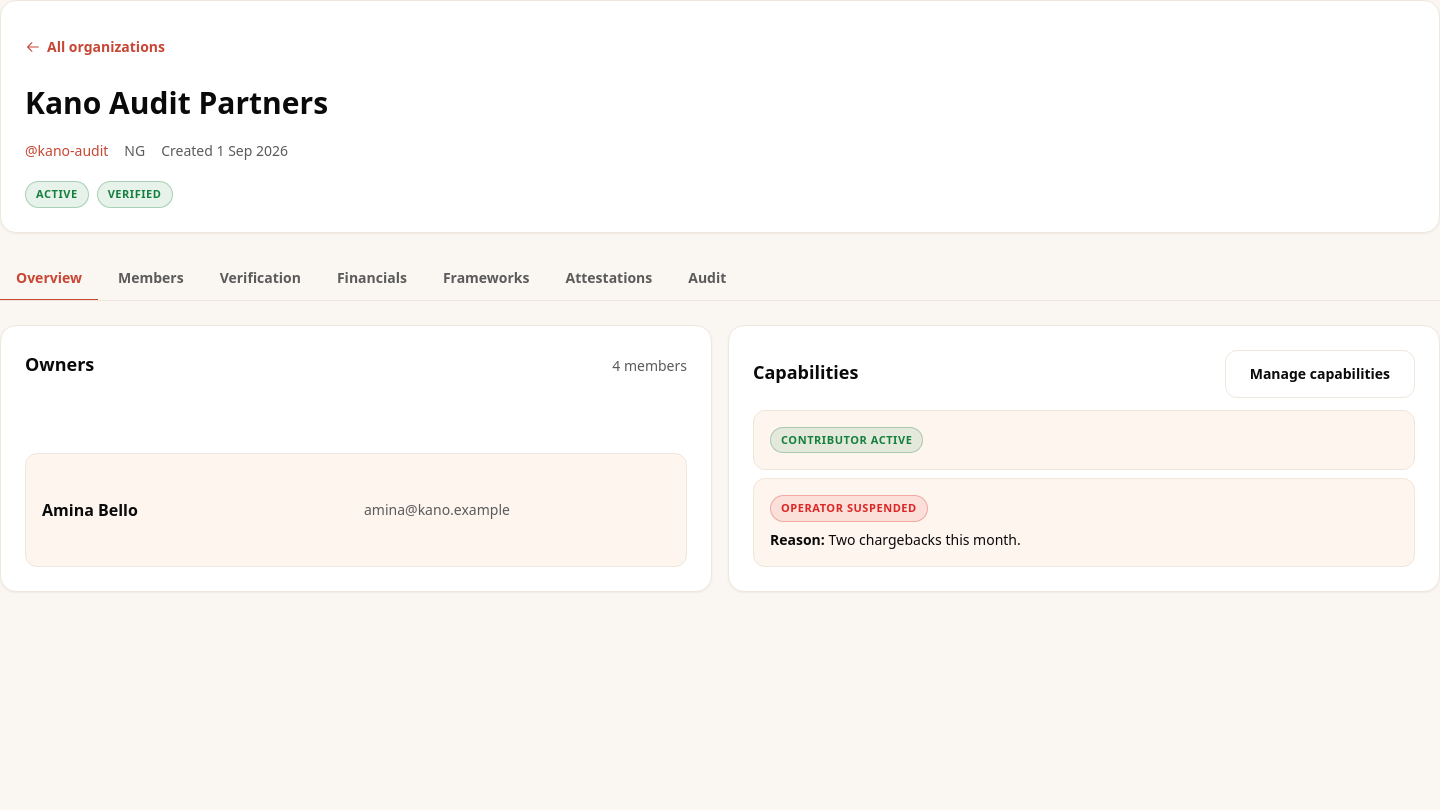
Test case: AdminOrganizationDetailPage › formats financials in the response currency
Expected: the heading "Kano Audit Partners" is shown, [25,82,328,123]
Click the tab "Financials".
click(372, 278)  # box [321,256,423,300]
(page scrolled)
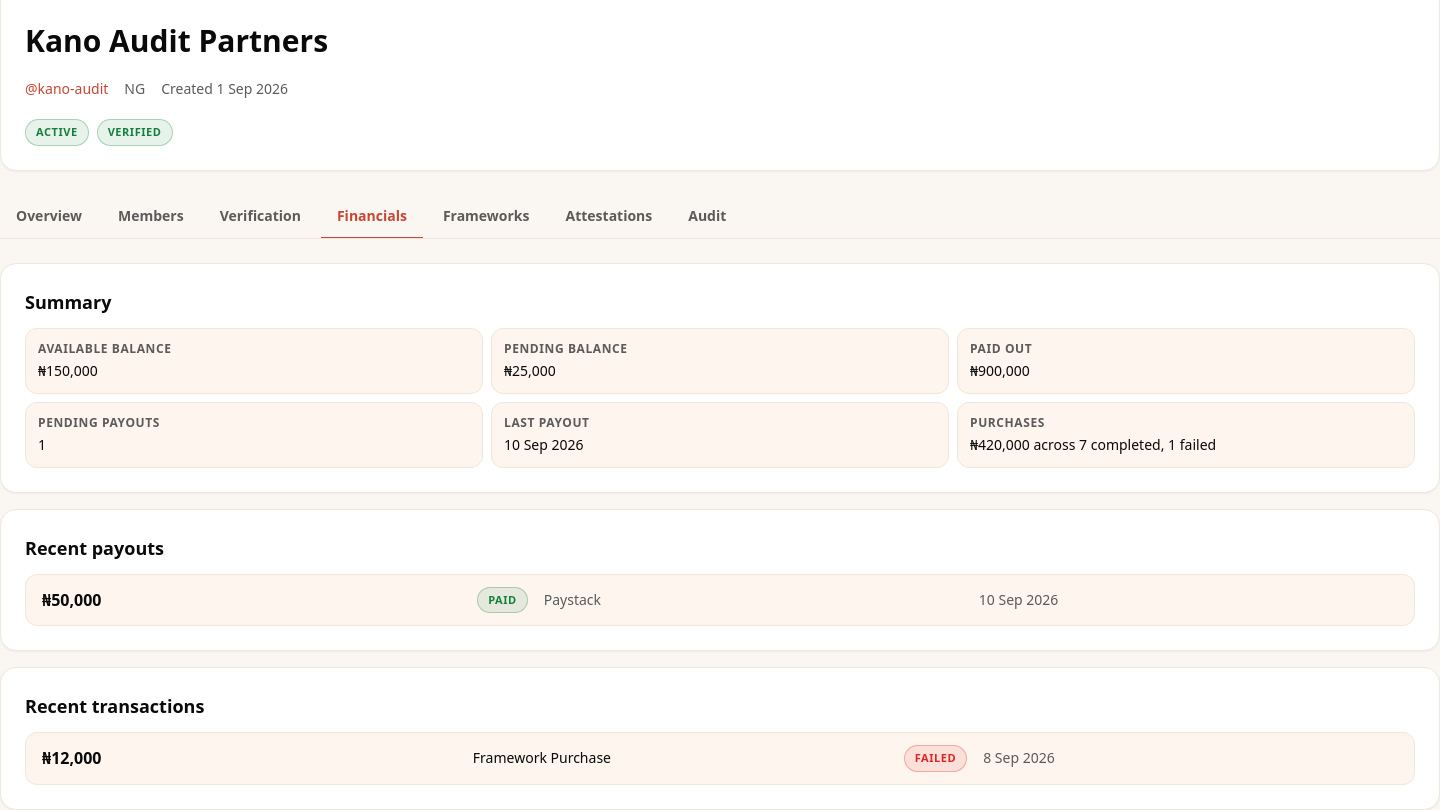
Expected: the text "₦150,000" is shown, [38,360,98,380]
Expected: the panel shows "₦25,000", [504,360,556,380]
Expected: the panel shows "₦900,000", [970,360,1030,380]
